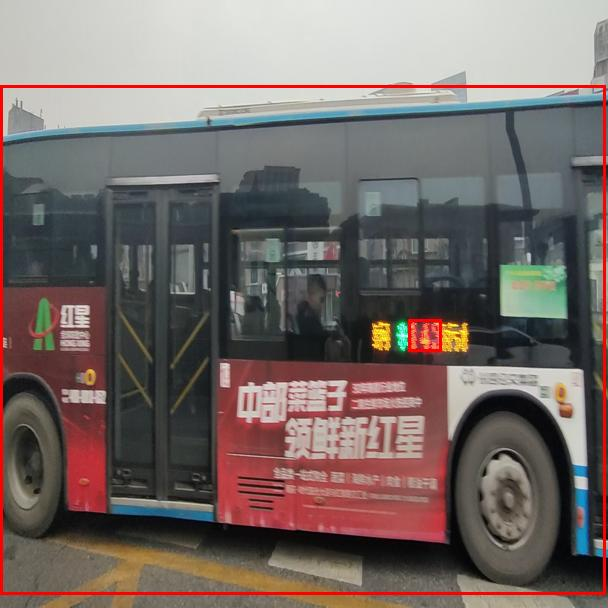bus: (0, 85, 605, 594)
screen: (408, 319, 441, 351)
